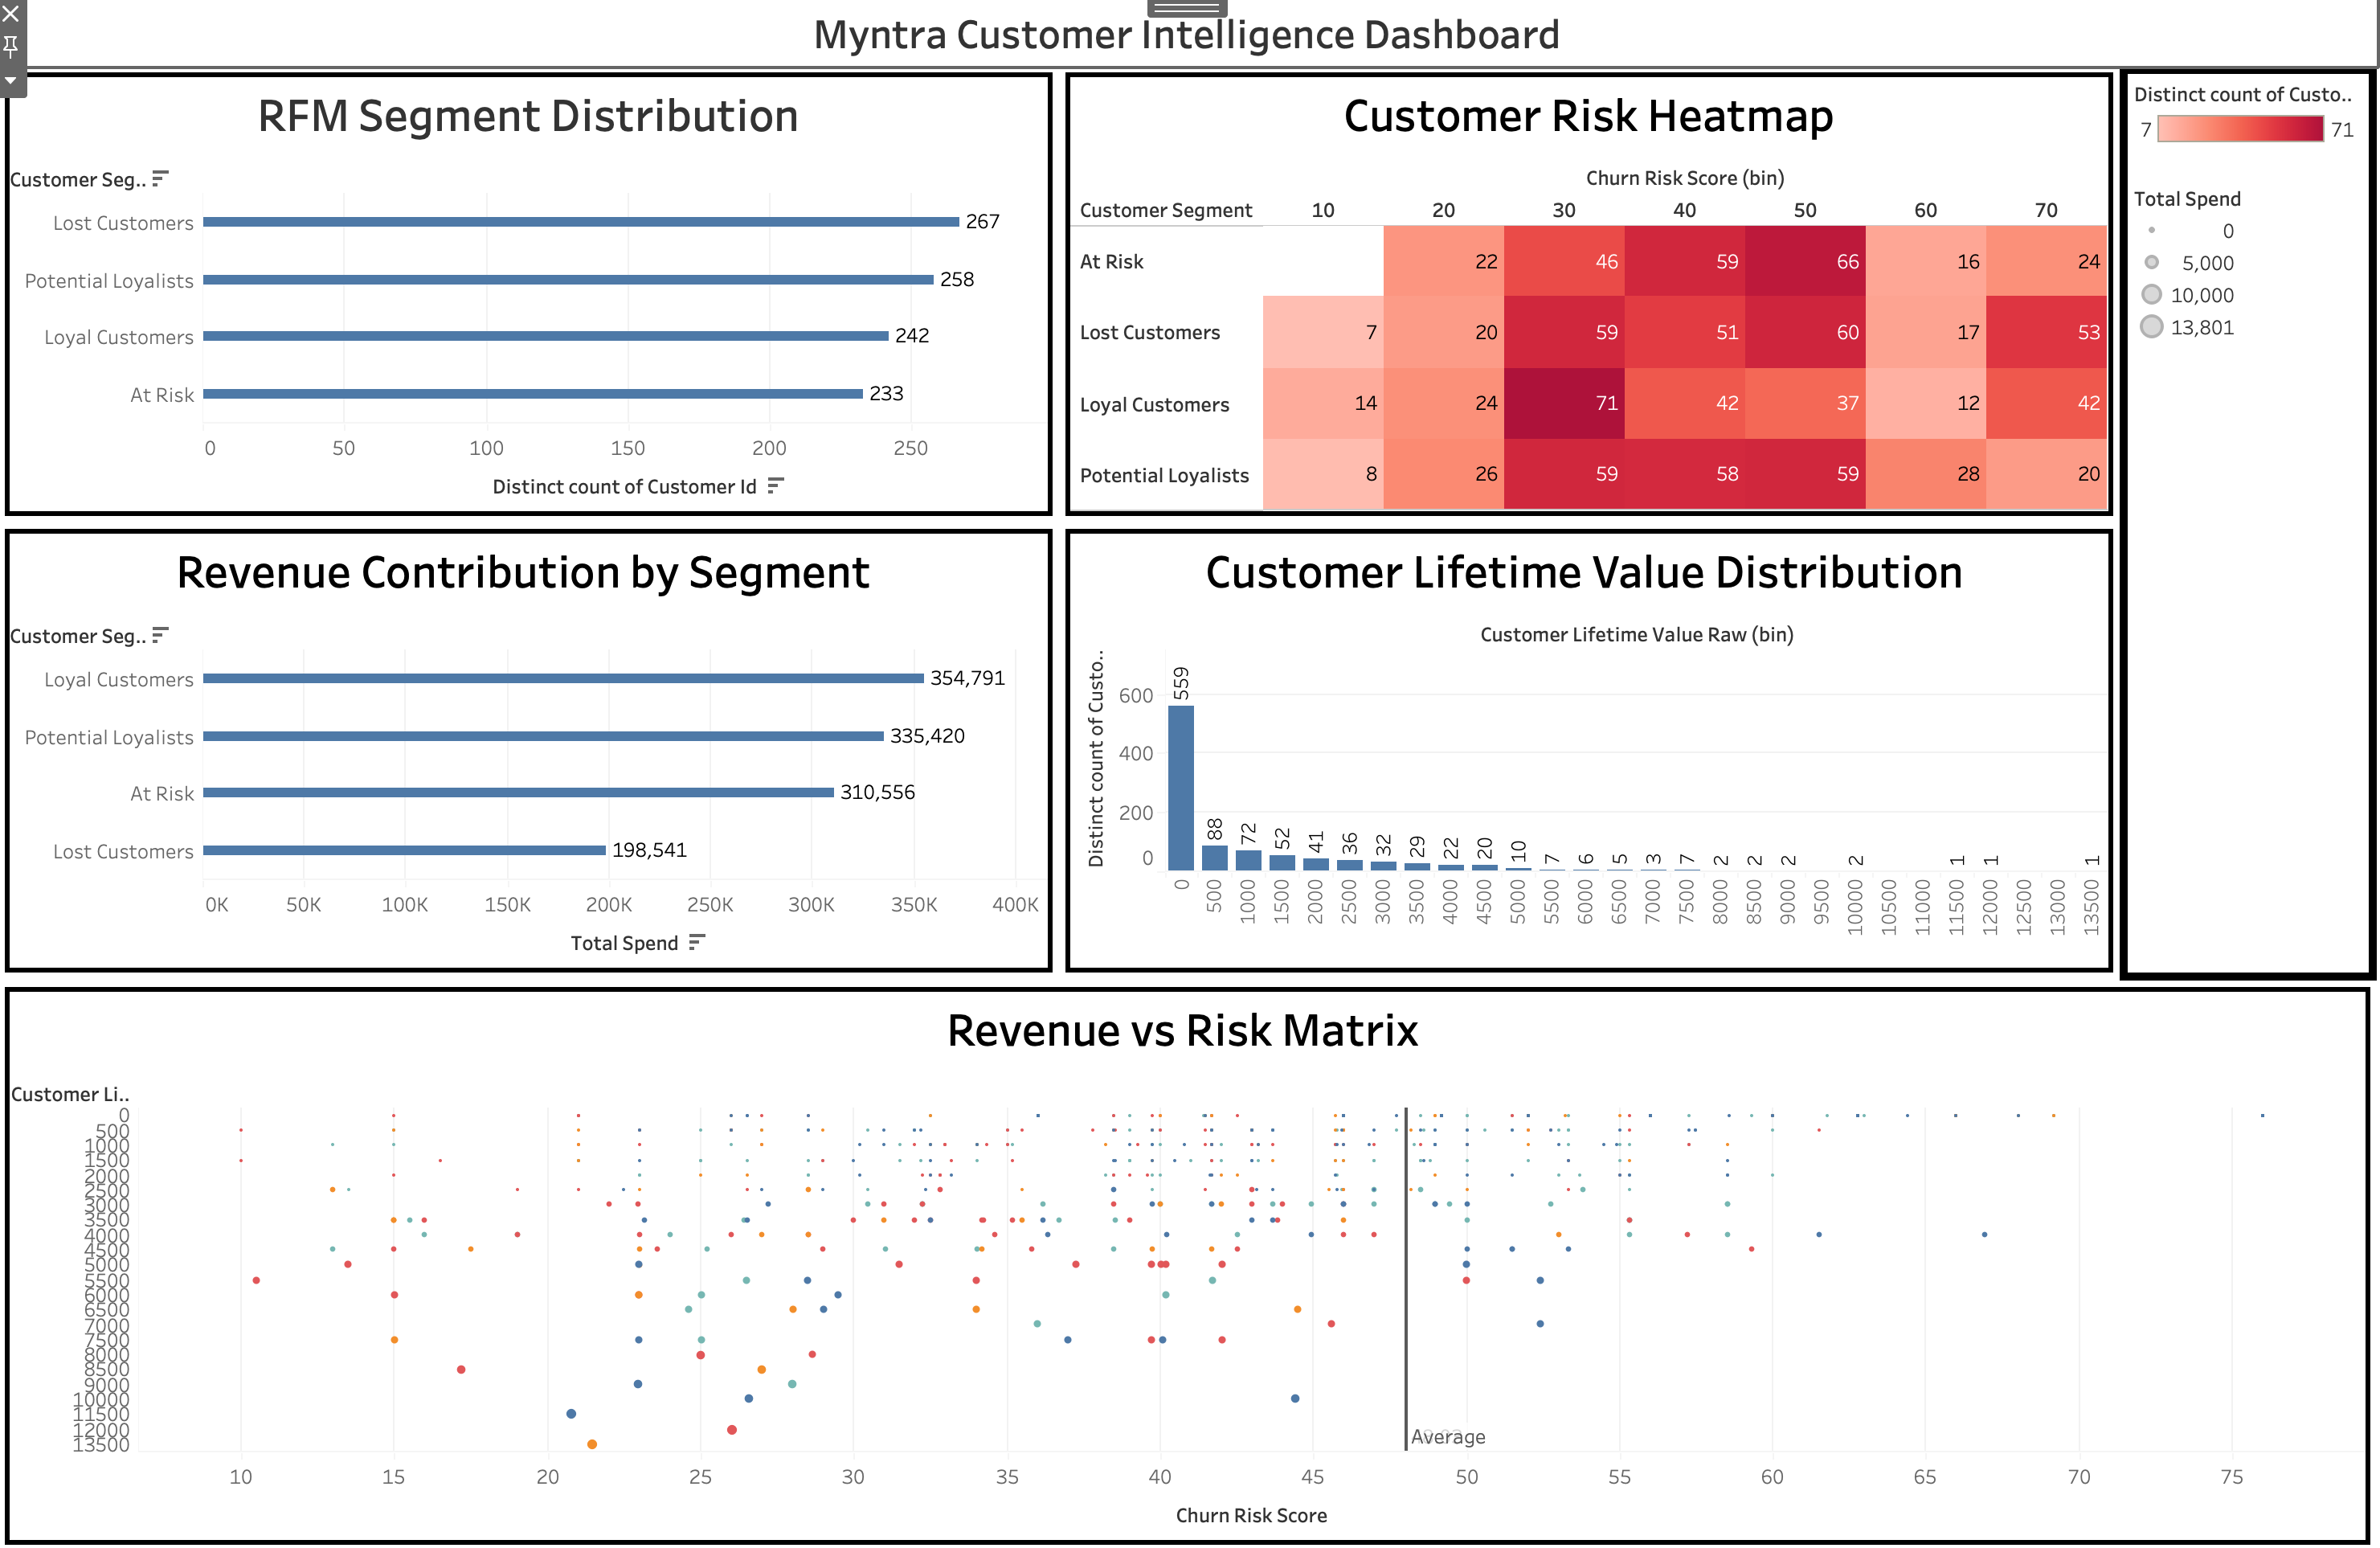

Layout of this report page (visuals, bound fields, positions):
{"tool":"tableau","page":{"name":"Myntra Customer Intelligence Dashboard","canvas":[1000,1000],"units":"permille","ordinal":1},"visuals":[{"type":"title","box":[5.4,8.2,989.3,41.8]},{"type":"worksheet","title":"RFM Segment Distribution","mark":"Bar","rows":["customer_segment"],"cols":["customer_id"],"box":[5.4,49.9,441.2,289.9]},{"type":"worksheet","title":"Customer Risk Heatmap","mark":"Square","rows":["customer_segment"],"cols":["Churn Risk Score (bin)"],"box":[446.5,49.9,441.2,289.9]},{"type":"legend","title":"Customer Risk Heatmap","param":"[federated.08yzv0h1f0hq6t16tb4em1shkdt2].[ctd:customer_id:qk]","box":[891,55,100.3,66.2]},{"type":"legend","title":"Revenue vs Risk Matrix","param":"[federated.08yzv0h1f0hq6t16tb4em1shkdt2].[sum:total_spend:qk]","box":[891,121.3,100.3,108]},{"type":"worksheet","title":"Revenue Contribution by Segment","mark":"Bar","rows":["customer_segment"],"cols":["total_spend"],"box":[5.4,339.8,441.2,289.9]},{"type":"worksheet","title":"Customer Lifetime Value Distribution","mark":"Bar","rows":["customer_id"],"cols":["Customer Lifetime Value Raw (bin)"],"box":[446.5,339.8,441.2,289.9]},{"type":"worksheet","title":"Revenue vs Risk Matrix","mark":"Circle","rows":["Customer Lifetime Value Raw (bin)"],"cols":["churn_risk_score"],"box":[5.4,629.7,989.3,362.1]}]}

Visuals, with their boxes on the dashboard's canvas, which has no fixed pixel size, in thousandths of its width and height (x1, y1, x2, y2). These are canvas units, not pixel positions in the 2380x1548 screenshot, which may show the page scaled, cropped or inside an application window:
title: x1=5 y1=8 x2=995 y2=50
"RFM Segment Distribution" worksheet (Bar marks): x1=5 y1=50 x2=447 y2=340
"Customer Risk Heatmap" worksheet (Square marks): x1=446 y1=50 x2=888 y2=340
"Customer Risk Heatmap" legend: x1=891 y1=55 x2=991 y2=121
"Revenue vs Risk Matrix" legend: x1=891 y1=121 x2=991 y2=229
"Revenue Contribution by Segment" worksheet (Bar marks): x1=5 y1=340 x2=447 y2=630
"Customer Lifetime Value Distribution" worksheet (Bar marks): x1=446 y1=340 x2=888 y2=630
"Revenue vs Risk Matrix" worksheet (Circle marks): x1=5 y1=630 x2=995 y2=992
